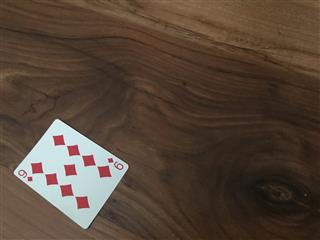NineOfDiamonds: (12, 117, 129, 230)
